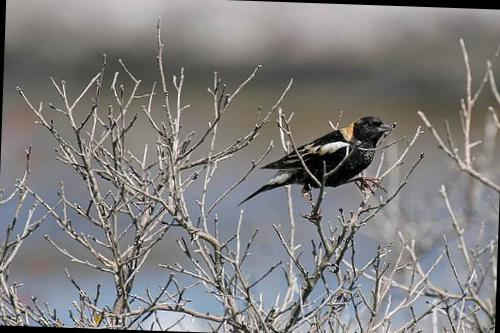bird: (228, 103, 400, 219)
